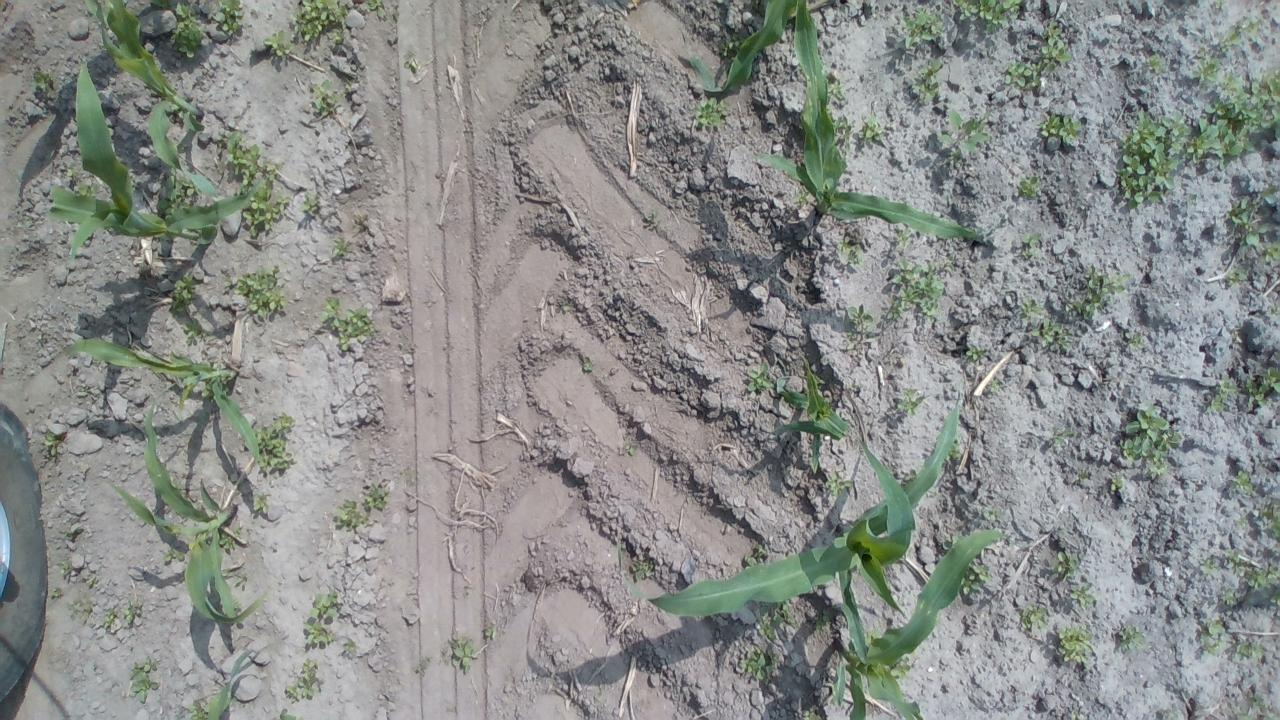Maize: (617, 385, 961, 618), (755, 1, 990, 246), (48, 63, 265, 256), (104, 403, 270, 627), (828, 527, 1011, 720), (62, 338, 264, 468), (85, 1, 217, 197), (680, 0, 800, 97), (776, 354, 851, 474), (192, 652, 269, 720)
Weeds: (1114, 71, 1280, 207), (208, 130, 288, 238), (1222, 195, 1278, 290), (1004, 18, 1072, 90), (1199, 549, 1278, 605), (1192, 16, 1260, 80), (1118, 408, 1180, 478), (833, 634, 912, 684), (288, 0, 383, 41), (884, 258, 944, 321), (1064, 270, 1132, 323), (1205, 367, 1278, 413), (248, 411, 298, 476), (936, 108, 990, 164), (224, 270, 280, 321), (320, 298, 370, 349), (304, 594, 339, 650), (1235, 502, 1280, 544), (954, 0, 1022, 27), (166, 4, 202, 55), (284, 659, 324, 702), (734, 648, 780, 683), (64, 602, 142, 622), (902, 9, 944, 45), (752, 602, 794, 637), (910, 60, 944, 103), (307, 81, 343, 119), (160, 170, 195, 206), (1043, 115, 1081, 147), (1030, 318, 1067, 350), (128, 662, 156, 704), (1054, 628, 1089, 661), (1221, 702, 1280, 720), (745, 360, 778, 392), (213, 4, 241, 41), (692, 98, 727, 127), (961, 560, 989, 596), (894, 390, 930, 416), (330, 502, 366, 528), (29, 68, 54, 105), (171, 276, 195, 314), (1227, 465, 1255, 494), (855, 116, 883, 144), (450, 640, 478, 668), (359, 482, 388, 509), (262, 30, 292, 56), (824, 469, 854, 494), (844, 304, 872, 330), (829, 115, 851, 147), (1202, 622, 1224, 654), (744, 544, 770, 570), (1057, 549, 1077, 582), (834, 244, 864, 266), (1071, 580, 1094, 608), (1231, 638, 1260, 658), (300, 191, 320, 220), (1022, 297, 1046, 320), (178, 322, 200, 346), (1022, 232, 1042, 258), (630, 560, 653, 582), (1118, 628, 1140, 650), (1020, 609, 1044, 629), (332, 236, 352, 260), (797, 183, 814, 211), (822, 78, 842, 101), (40, 435, 62, 455), (1019, 177, 1040, 197), (894, 230, 914, 250), (252, 498, 272, 516), (1125, 334, 1145, 349), (276, 707, 298, 720), (340, 640, 354, 658), (1146, 54, 1162, 69), (1054, 432, 1071, 445), (50, 586, 64, 601), (407, 55, 420, 70), (84, 574, 96, 590), (60, 560, 70, 579), (968, 344, 982, 354), (1212, 1, 1228, 9), (483, 630, 493, 640), (1166, 712, 1178, 718)
